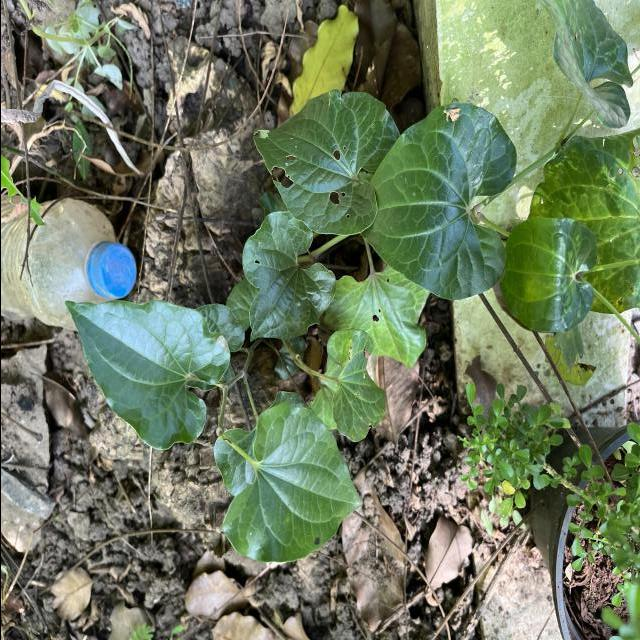Piper longum: (361, 100, 518, 304), (61, 296, 230, 452), (218, 397, 367, 566)
